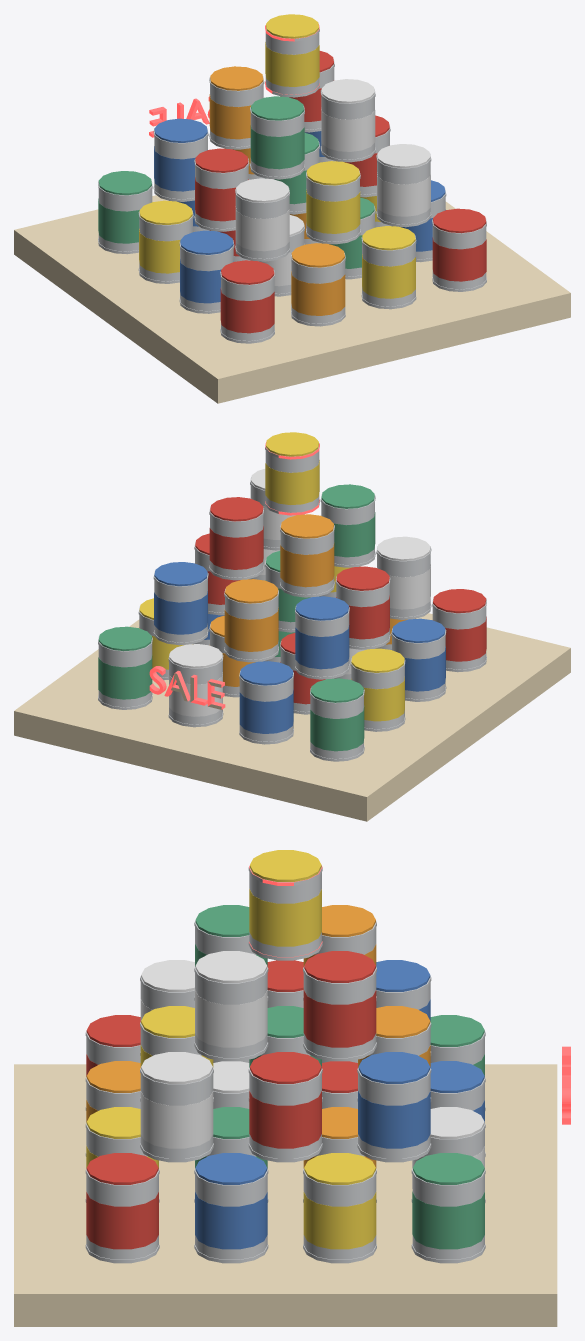
Rendered from paint_can_stack.glb.
3 renders of one model, top to bottom at view 1: azimuth 30°, elevation 25°; view 2: azimuth 150°, elevation 25°; view 3: azimuth 270°, elevation 25°, orthographic. The views are drawn at different scales.
Visible parts, largest first — view 1: paint_can_stack; view 2: paint_can_stack; view 3: paint_can_stack.
Part boxes in pixels (left/top/right/bottom): paint_can_stack: left=14, top=14, right=570, bottom=403; paint_can_stack: left=14, top=432, right=570, bottom=821; paint_can_stack: left=14, top=850, right=570, bottom=1326.
Size of the model in its own units: 1.2 by 0.846 by 1.23.
